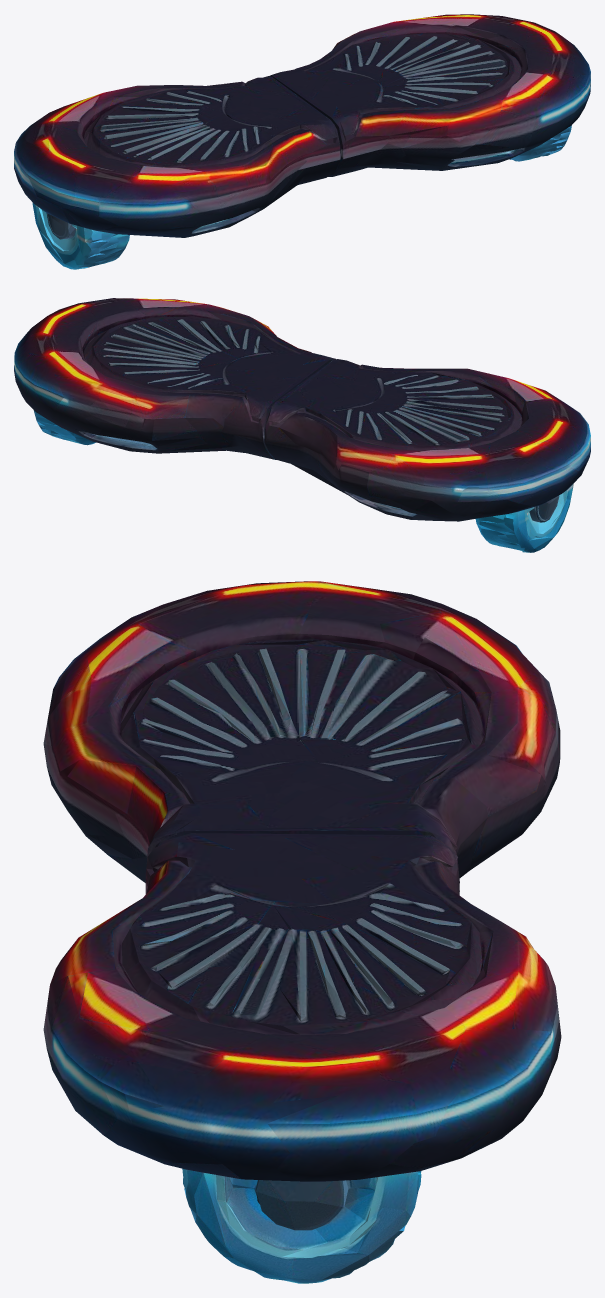
File: hoverboard.glb
3 views of the same model, one above another, from view 1: azimuth 30°, elevation 25°; view 2: azimuth 150°, elevation 25°; view 3: azimuth 270°, elevation 25° (orthographic). The views are drawn at different scales.
Size of the model in its own units: 1.9 by 0.3826 by 0.7871.
Materials: 1 (1 with a texture image).
